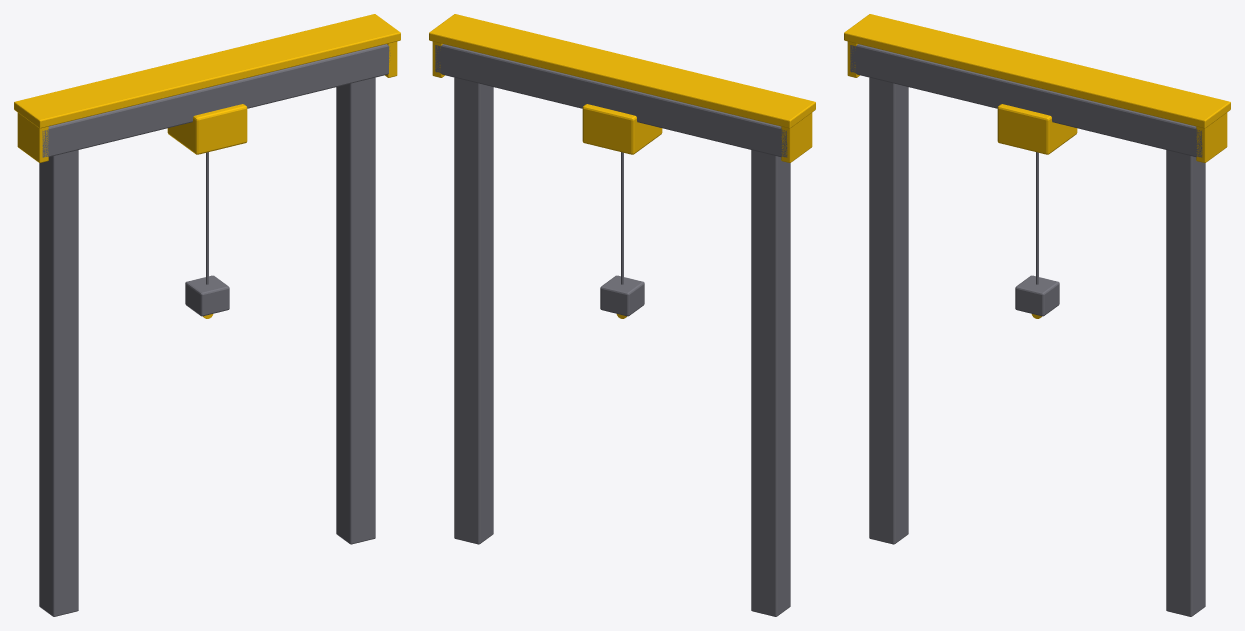
Rendered from crane.glb.
3 views of the same model, side by side, from view 1: azimuth 30°, elevation 25°; view 2: azimuth 150°, elevation 25°; view 3: azimuth 330°, elevation 25° (orthographic).
Parts seen in each view (by area): view 1: leg_1, leg_-1, beam_top, beam, trolley, hook_block, stop_-1; view 2: leg_1, leg_-1, beam_top, beam, trolley, hook_block, stop_-1; view 3: leg_-1, leg_1, beam_top, beam, trolley, hook_block, stop_1.
Boxes of the visible parts, box(x1,y1,x2,y2) form: leg_1: box(336, 77, 375, 544); leg_-1: box(39, 150, 78, 616); beam_top: box(14, 14, 400, 128); beam: box(42, 44, 390, 157); trolley: box(167, 104, 247, 154); hook_block: box(185, 275, 229, 316); stop_-1: box(17, 113, 48, 162); leg_1: box(454, 77, 493, 544); leg_-1: box(751, 150, 790, 616); beam_top: box(429, 14, 815, 128); beam: box(435, 44, 787, 157); trolley: box(582, 104, 662, 154); hook_block: box(600, 275, 644, 316); stop_-1: box(781, 113, 812, 162); leg_-1: box(869, 77, 908, 544); leg_1: box(1166, 150, 1205, 616); beam_top: box(844, 14, 1230, 128); beam: box(850, 44, 1202, 157); trolley: box(997, 104, 1077, 154); hook_block: box(1015, 275, 1059, 316); stop_1: box(1196, 113, 1227, 162).
Size of the model in its own units: 11.2 by 14.98 by 1.6.
